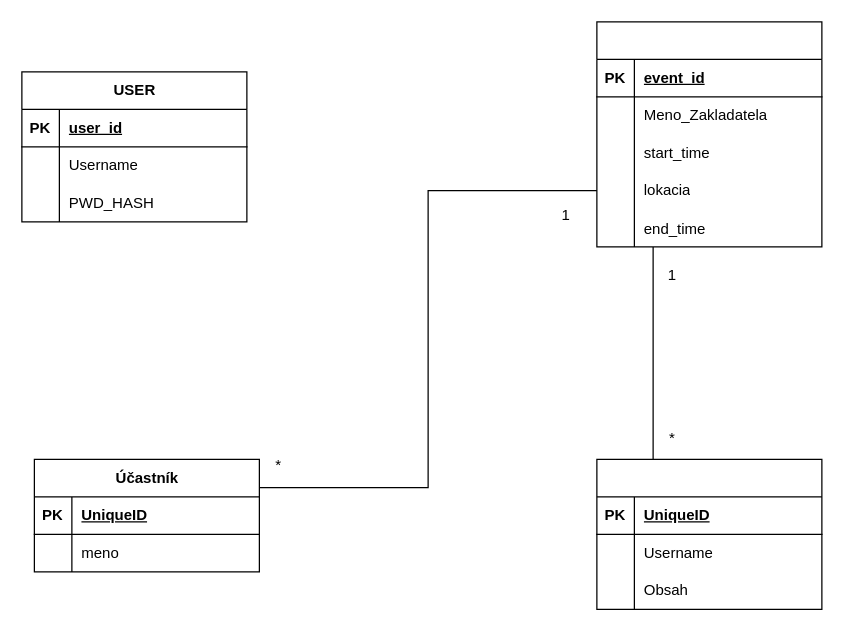
The diagram is 844 pixels wide and 631 high, and some of its shapes have lost their labels. The shapes that lost their labels are listed below. From the top down, each one's box as (x1, y1, x2, y2) in pixels, then its label:
(596, 21, 822, 247): Events
(596, 458, 822, 609): Komentar
